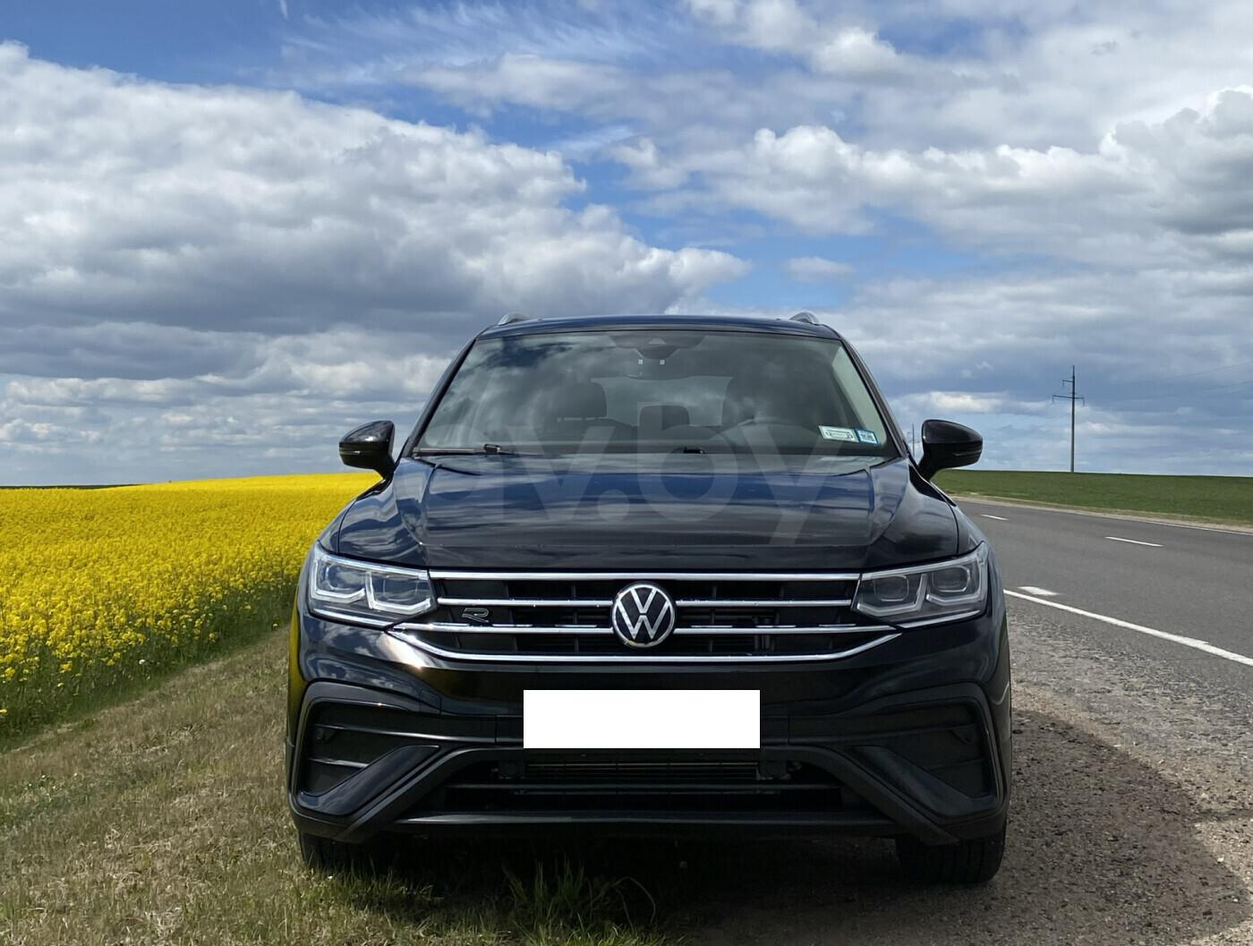Tiguan_2020-2024: (285, 311, 1024, 881)
